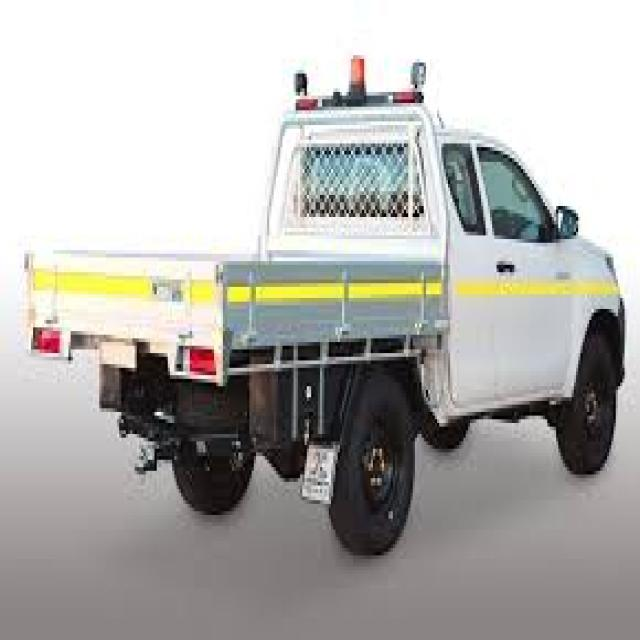light_vehicle: (18, 41, 631, 570)
